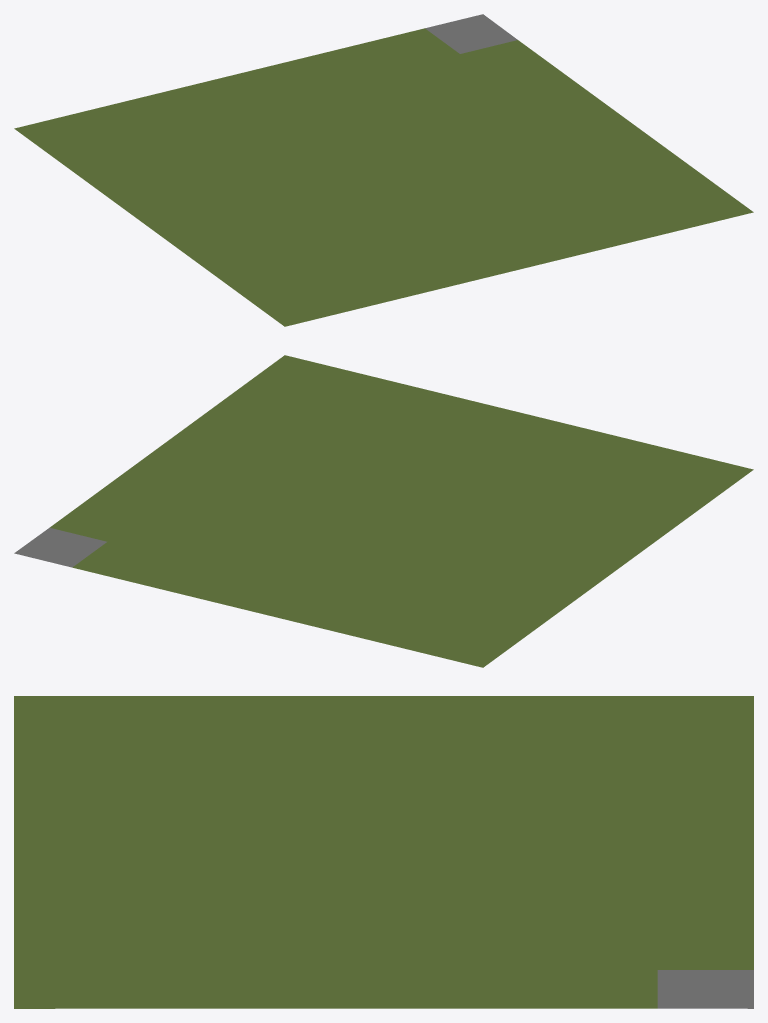
The model's file is ParkingLot_Mound_InnerCorner.fbx.
The picture shows the model from 3 angles, top to bottom: view 1: azimuth 30°, elevation 25°; view 2: azimuth 150°, elevation 25°; view 3: azimuth 270°, elevation 25°; orthographic projection. The views are drawn at different scales.
Visible parts, largest first — view 1: Inner_Corner; view 2: Inner_Corner; view 3: Inner_Corner.
Part boxes in pixels (x1,y1,x2,y2): Inner_Corner: (14, 14, 753, 326); Inner_Corner: (14, 355, 753, 667); Inner_Corner: (14, 696, 753, 1008).
Bounding box in the file's own units: 100 × 1.63e-05 × 100.
